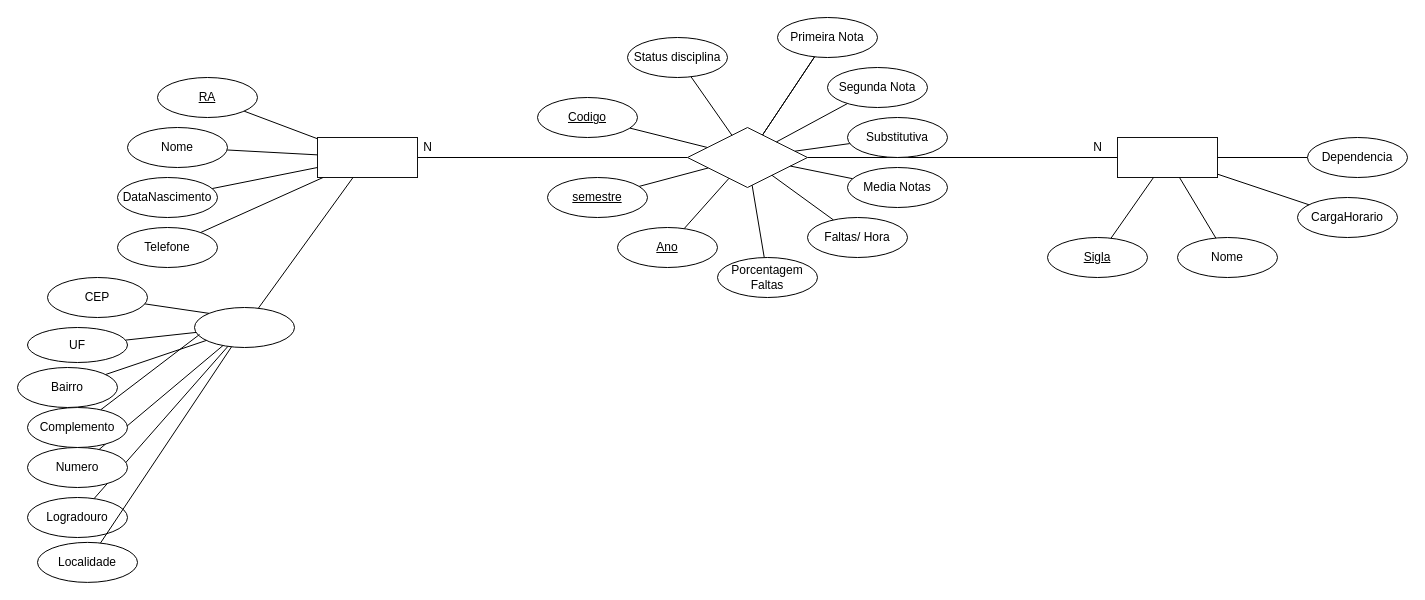
Some shapes in this 1425 by 600 pixel diagram are drawn without their labels. Each missing label, with the centre of its shape:
"Aluno" belongs at point (367, 157).
"Disciplina" belongs at point (1167, 157).
"Endereco" belongs at point (244, 327).
"Matricula" belongs at point (747, 157).
